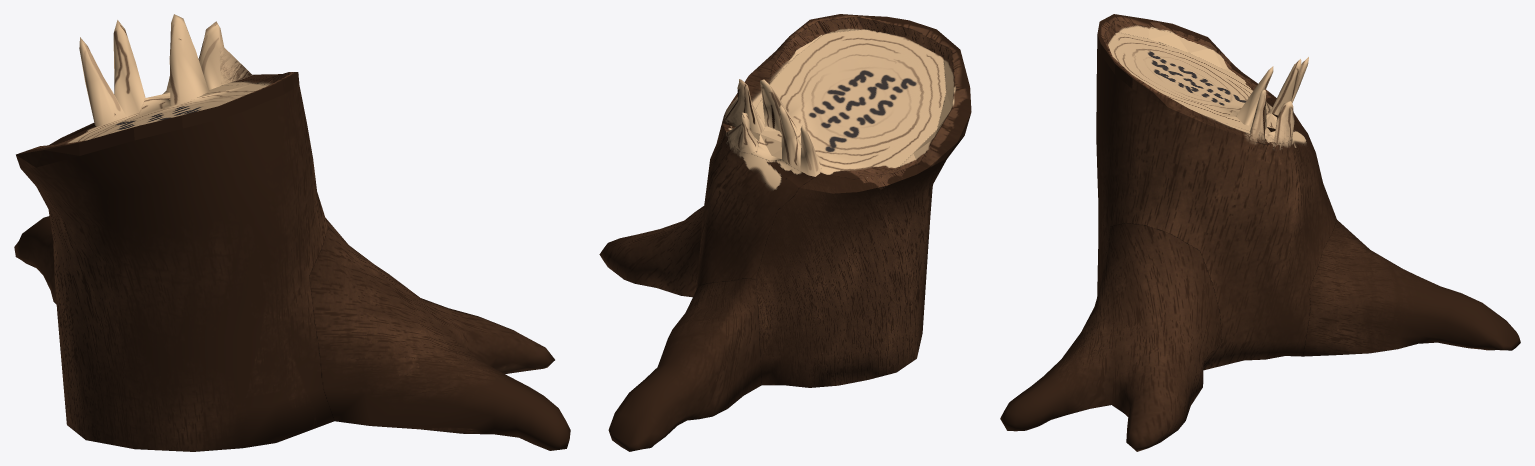
Rendered from stump.FBX.
3 renders of one model, left to right at view 1: azimuth 30°, elevation 25°; view 2: azimuth 150°, elevation 25°; view 3: azimuth 270°, elevation 25°, orthographic. The views are drawn at different scales.
Visible parts, largest first — view 1: default; view 2: default; view 3: default.
Boxes of the visible parts, x1,y1,x2,y2 form: default: (14, 14, 570, 451); default: (599, 14, 971, 451); default: (1000, 14, 1520, 451).
Bounding box in the file's own units: 11.01 × 7.98 × 13.02.
1 material, 1 textured.
